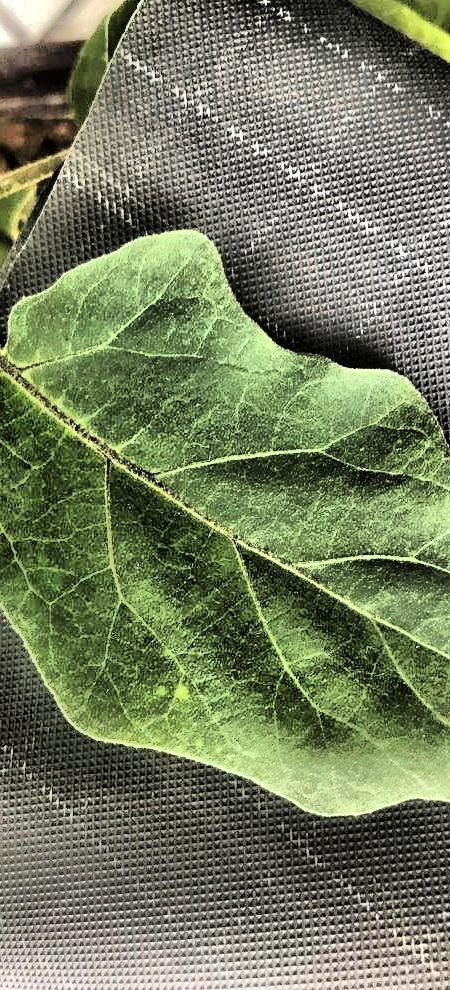HEALTHY: (43, 0, 450, 737)
